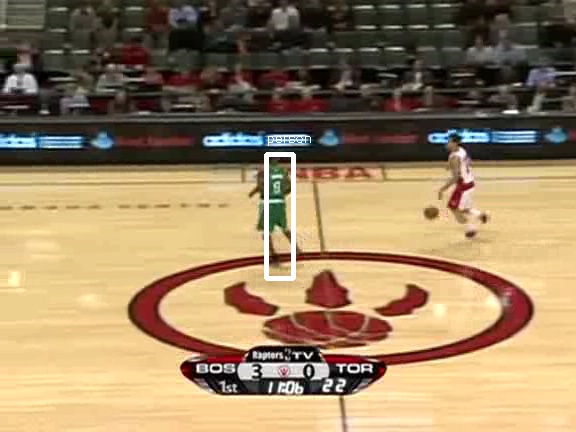person: (258, 160, 292, 241), (257, 160, 291, 241), (259, 160, 293, 241), (258, 159, 292, 240), (258, 161, 292, 242)
target_negative: (105, 251, 458, 400), (98, 328, 352, 367), (522, 161, 571, 318), (25, 402, 261, 418), (390, 310, 409, 332), (384, 417, 414, 419)
